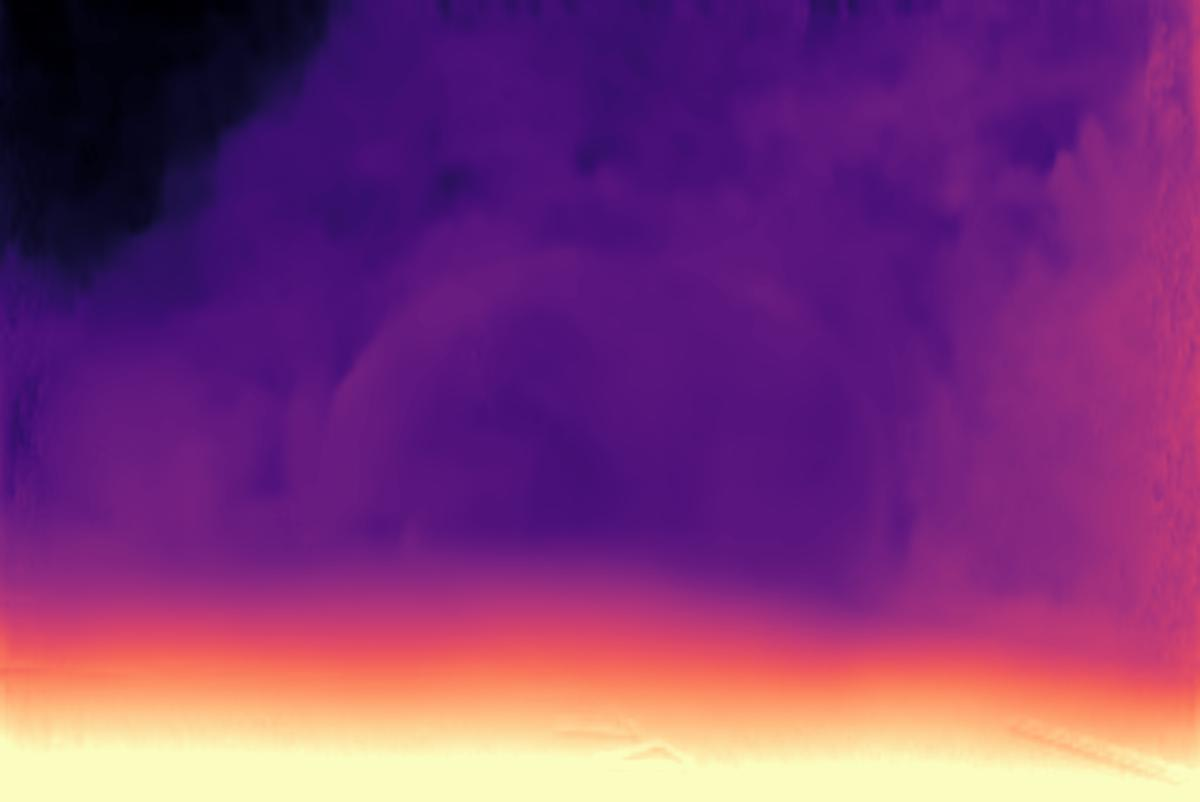Real_Tunnel: (267, 181, 1011, 617)
